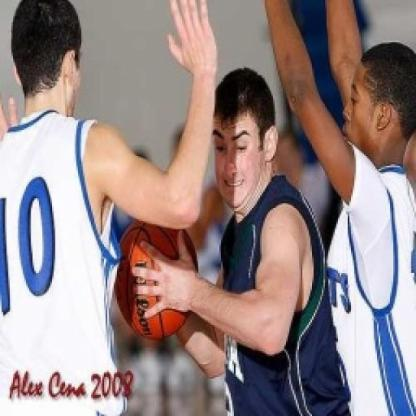basketball: (115, 204, 206, 350)
